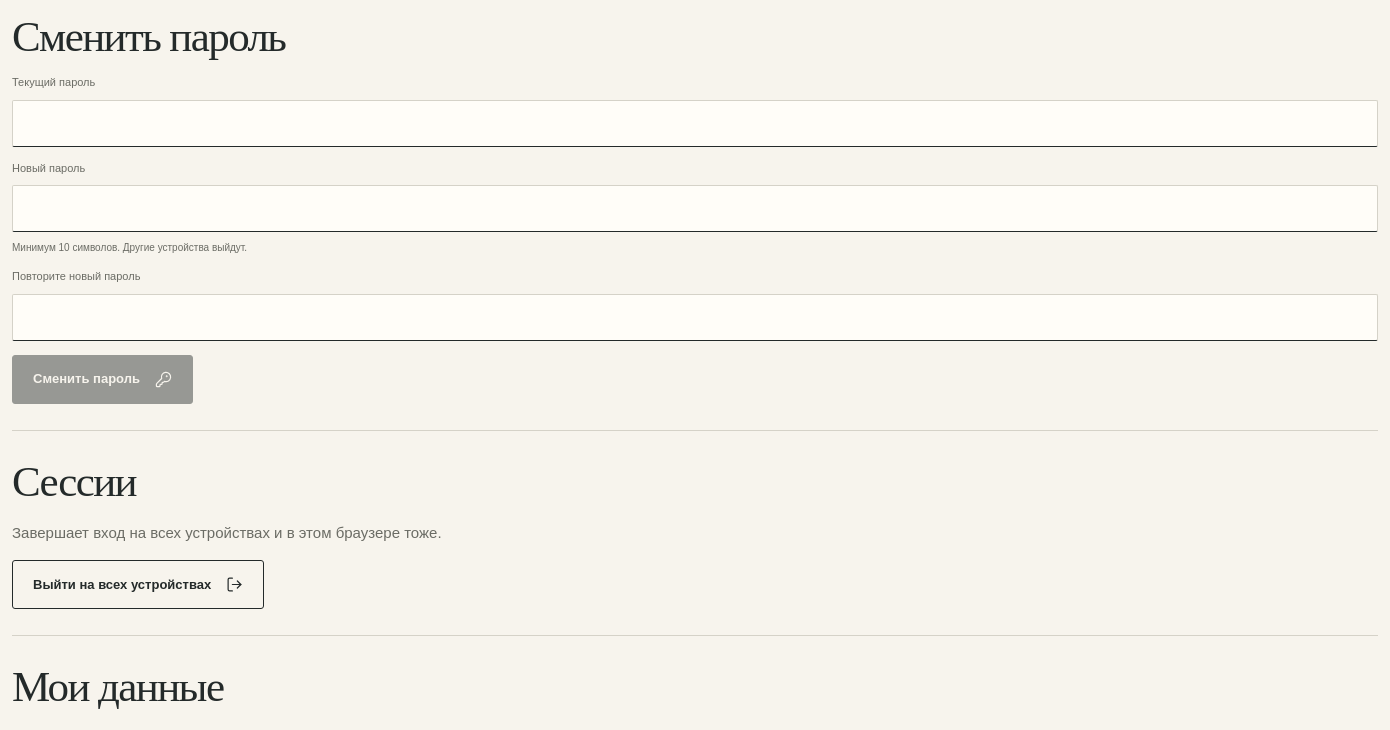
Test: SecurityPanel › blocks submission while the repeated password differs
Type "new-password-1" into the password field labelled "Новый пароль Минимум 10 символов. Другие устройства выйдут." at (695, 209), box x1=12 y1=185 x2=1378 y2=232
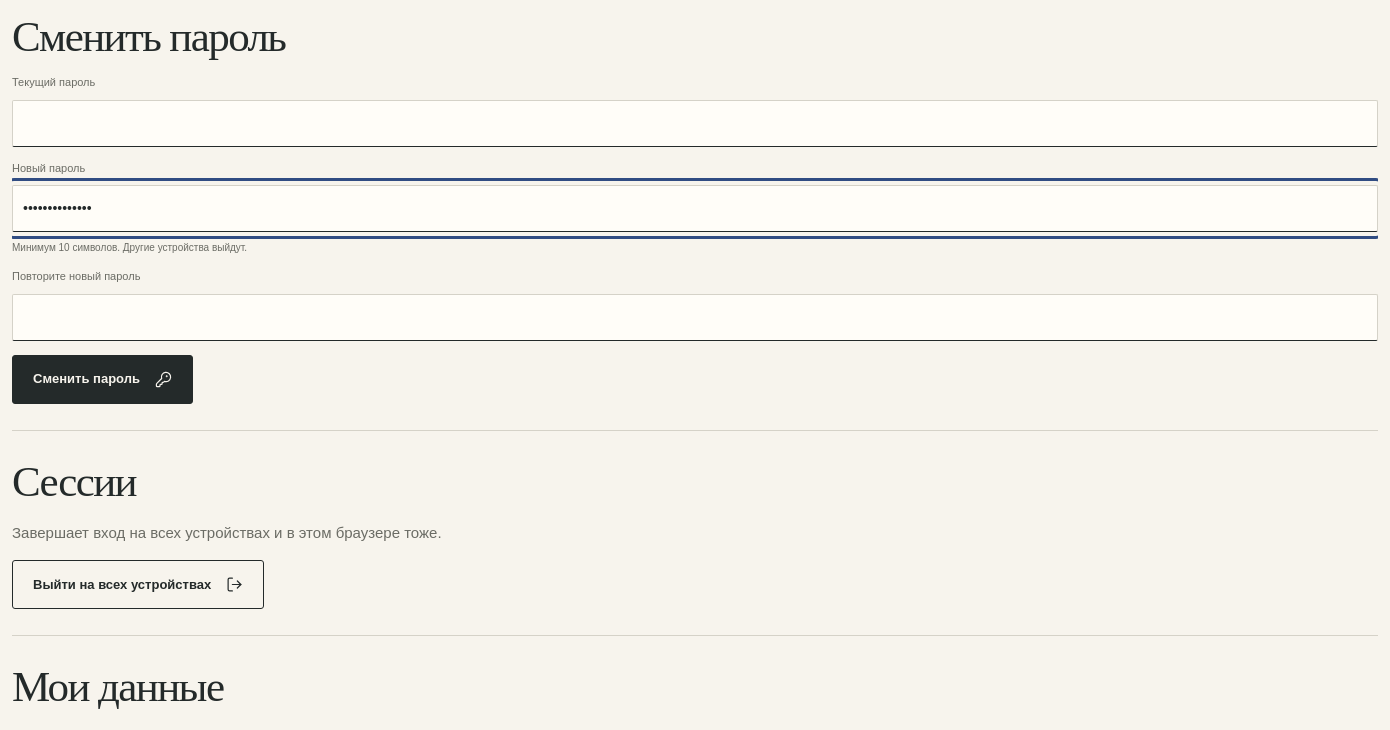
Type "new-password-2" into the password field labelled "Повторите новый пароль" at (695, 317), box x1=12 y1=294 x2=1378 y2=341
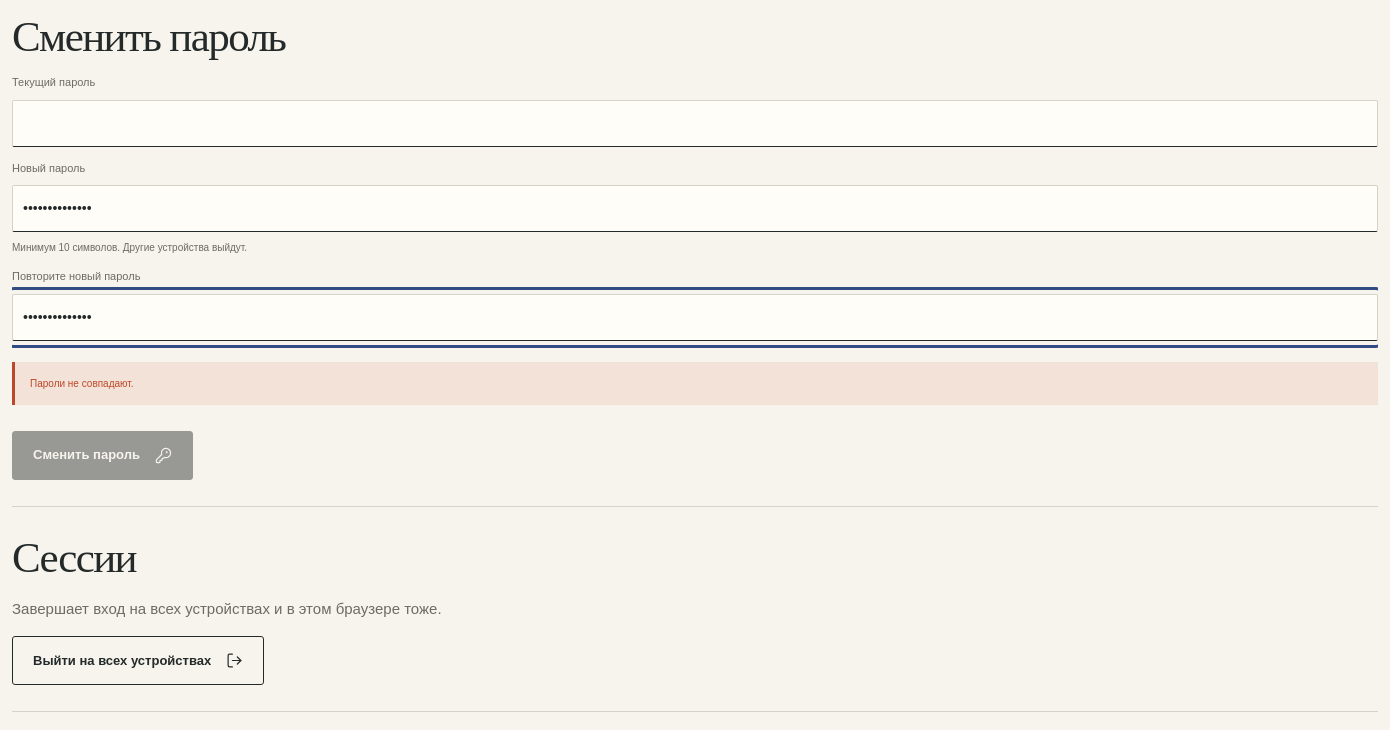
Expected: the text "Пароли не совпадают." is shown, x1=12 y1=362 x2=1378 y2=405
Expected: the button "Сменить пароль" is disabled, x1=12 y1=431 x2=193 y2=480
